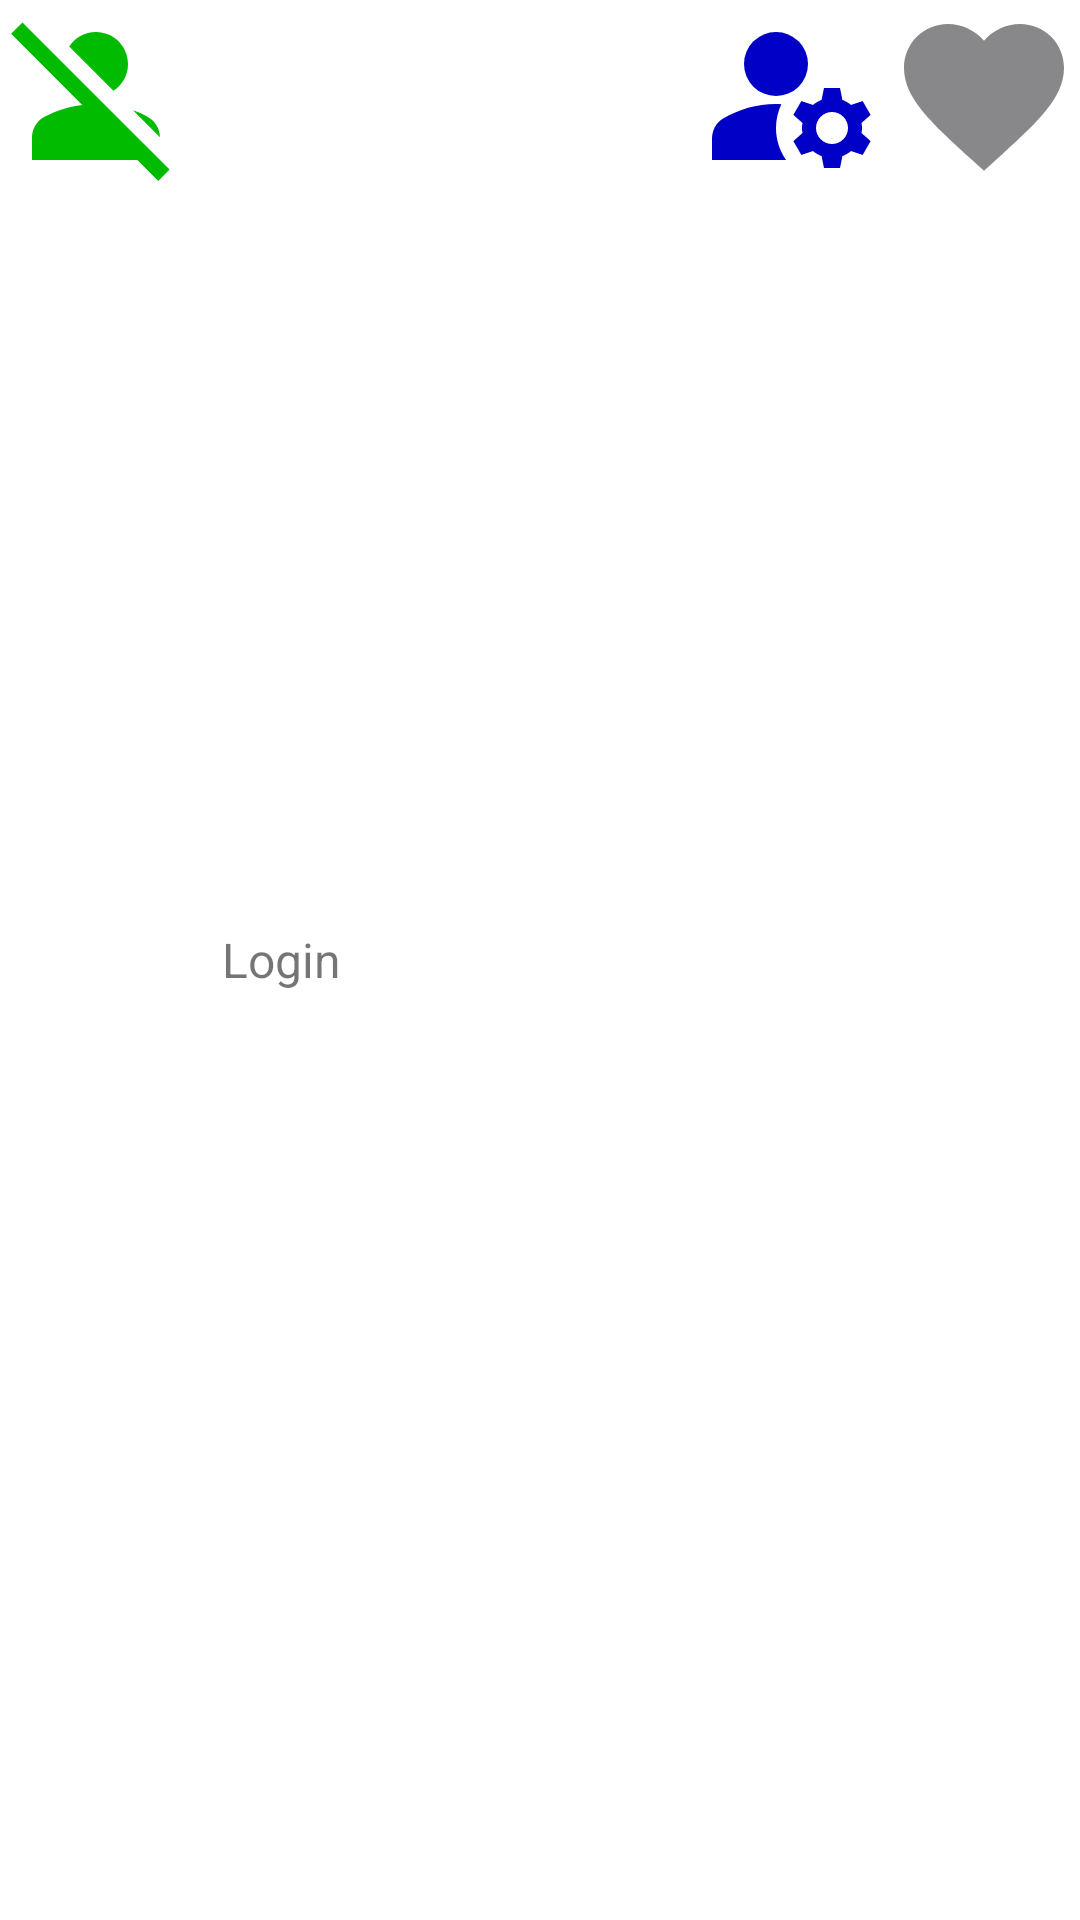

Screen size 1080×1920. Icon name, then its box in pixels as (x1, y1, x2, y2):
heart: (904, 24, 1064, 171)
manage accounts: (712, 32, 871, 168)
person off: (11, 22, 170, 181)
